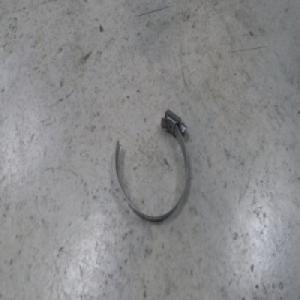AdjustableClamp: (113, 108, 190, 225)
